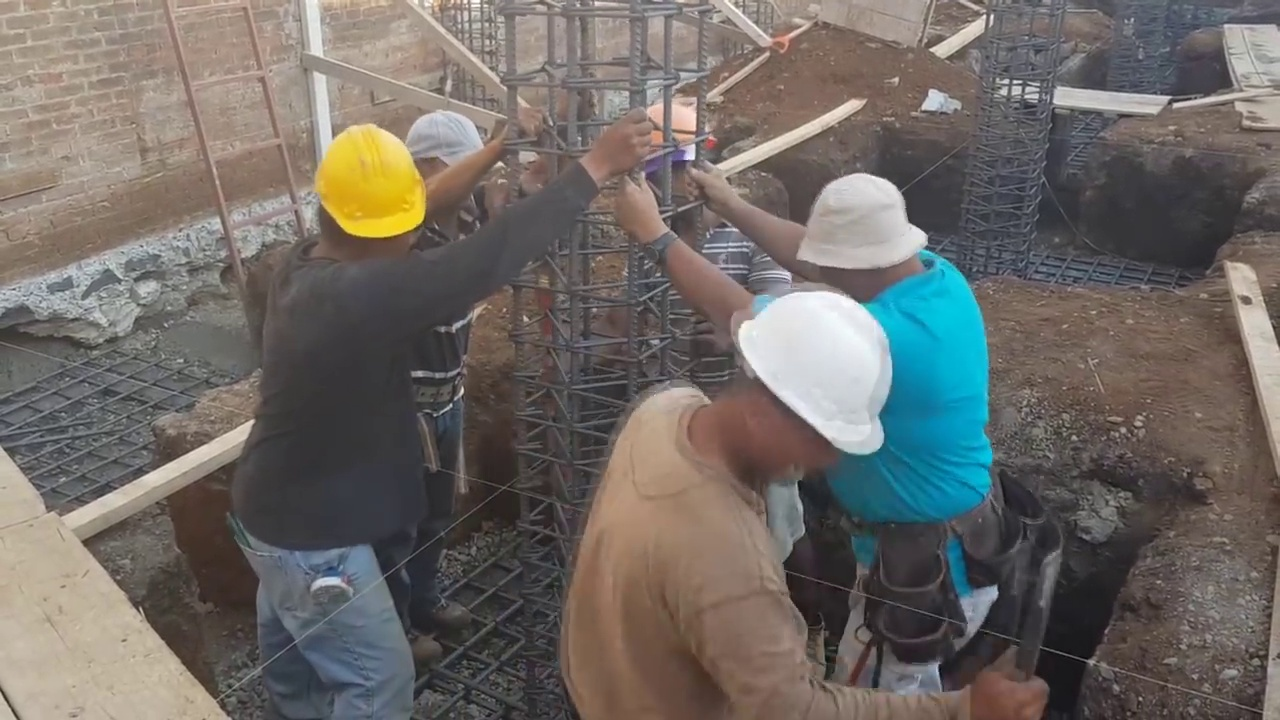helmet: (736, 291, 894, 456), (312, 120, 426, 238), (638, 101, 726, 148)
helmet-off: (799, 172, 936, 309), (414, 114, 504, 224)
helmet-on: (682, 288, 895, 488), (298, 122, 428, 270), (642, 102, 727, 228)
person: (226, 110, 650, 717), (562, 287, 1046, 716), (615, 162, 992, 522), (547, 100, 793, 398), (393, 113, 502, 665)
